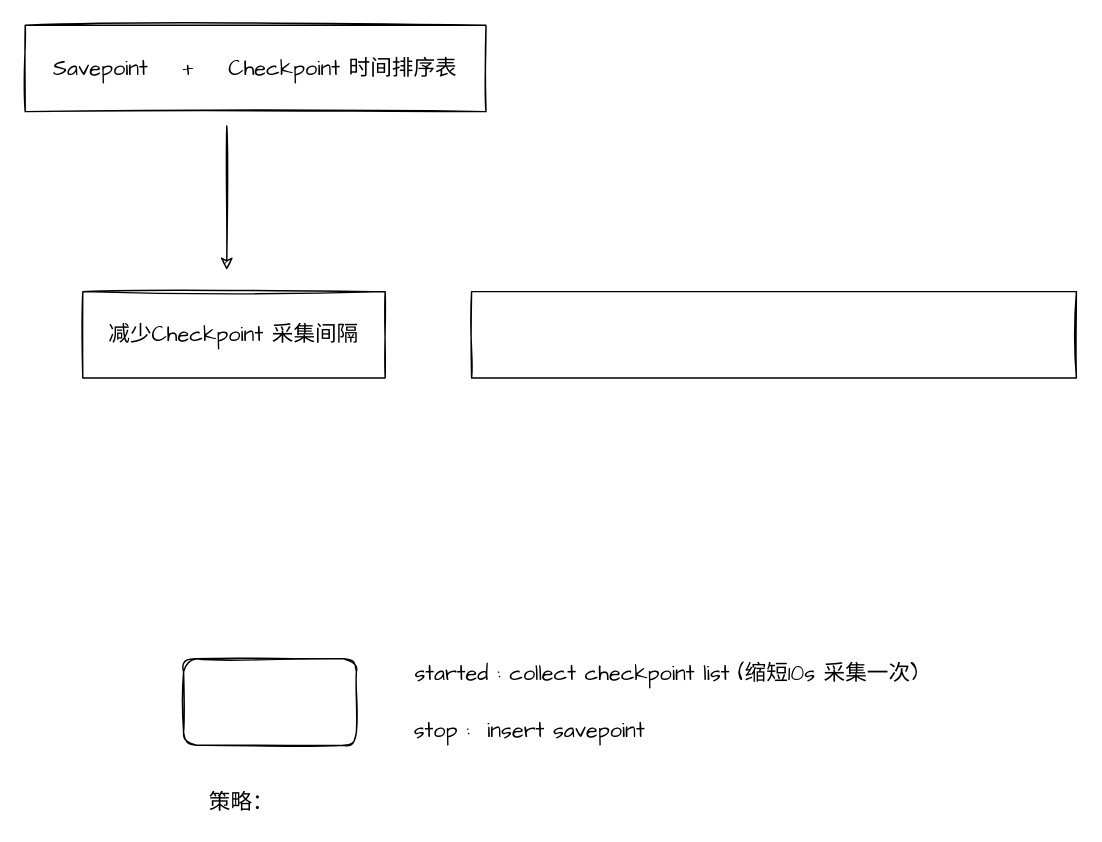
Some shapes in this 1102 by 842 pixel diagram are drawn without their labels. The shapes that lost their labels are listed below. From the top down, each one's centre as x and y in pixels, then its label:
At point 773,334: "Job启动，从Checkpoint 、Savepoint 标记，存入Tmp表中".
At point 269,701: "Job".
